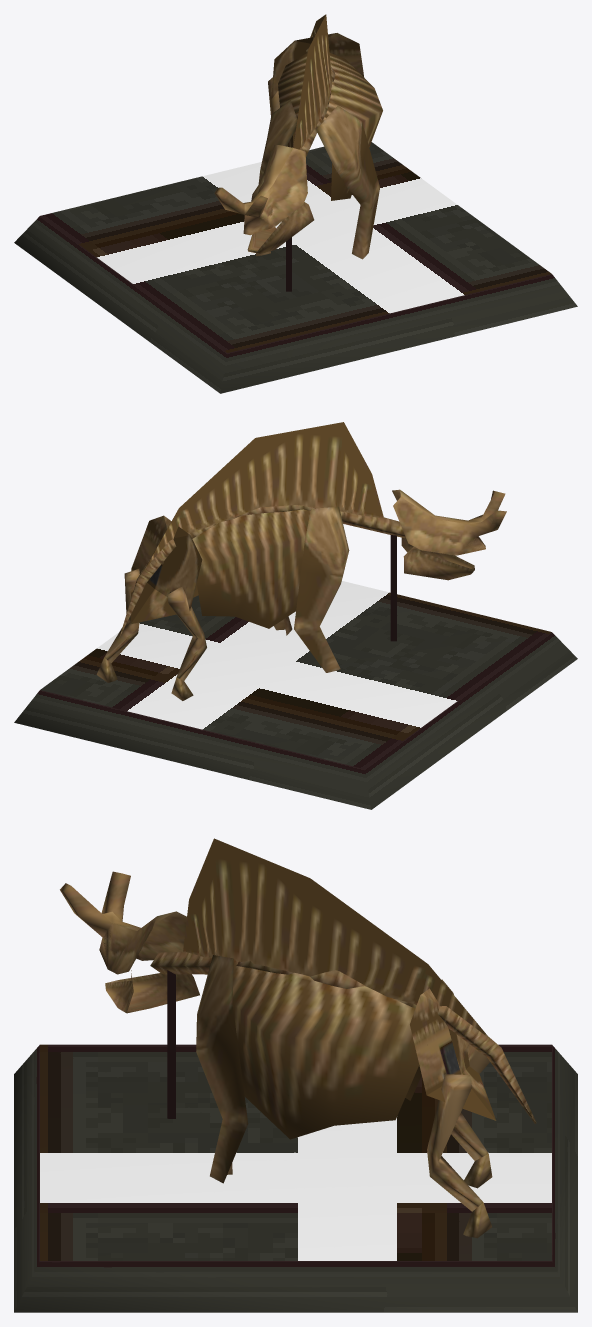
File: int_din_bro_m.dae
3 views of the same model, one above another, from view 1: azimuth 30°, elevation 25°; view 2: azimuth 150°, elevation 25°; view 3: azimuth 270°, elevation 25° (orthographic). The views are drawn at different scales.
Parts seen in each view (by area): view 1: int_din_bro_m; view 2: int_din_bro_m; view 3: int_din_bro_m.
Boxes of the visible parts, bbox=[...] form: int_din_bro_m: bbox=[14, 14, 577, 393]; int_din_bro_m: bbox=[14, 422, 577, 809]; int_din_bro_m: bbox=[14, 838, 577, 1312].
Bounding box in the file's own units: 26.65 × 17.89 × 26.65.
Materials: 2 (2 with a texture image).
